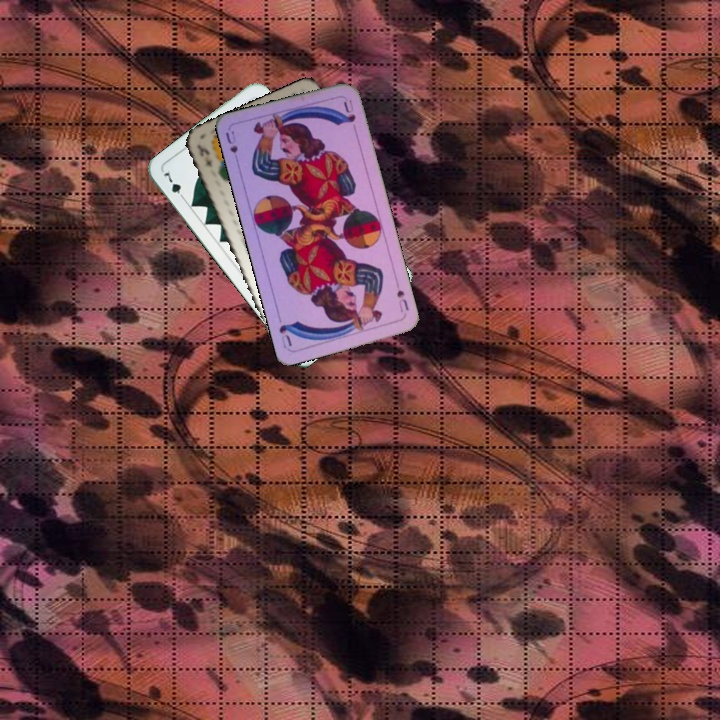EK: (193, 141, 215, 170)
G7: (159, 166, 188, 203)
SU: (221, 127, 242, 167), (392, 278, 411, 318)
